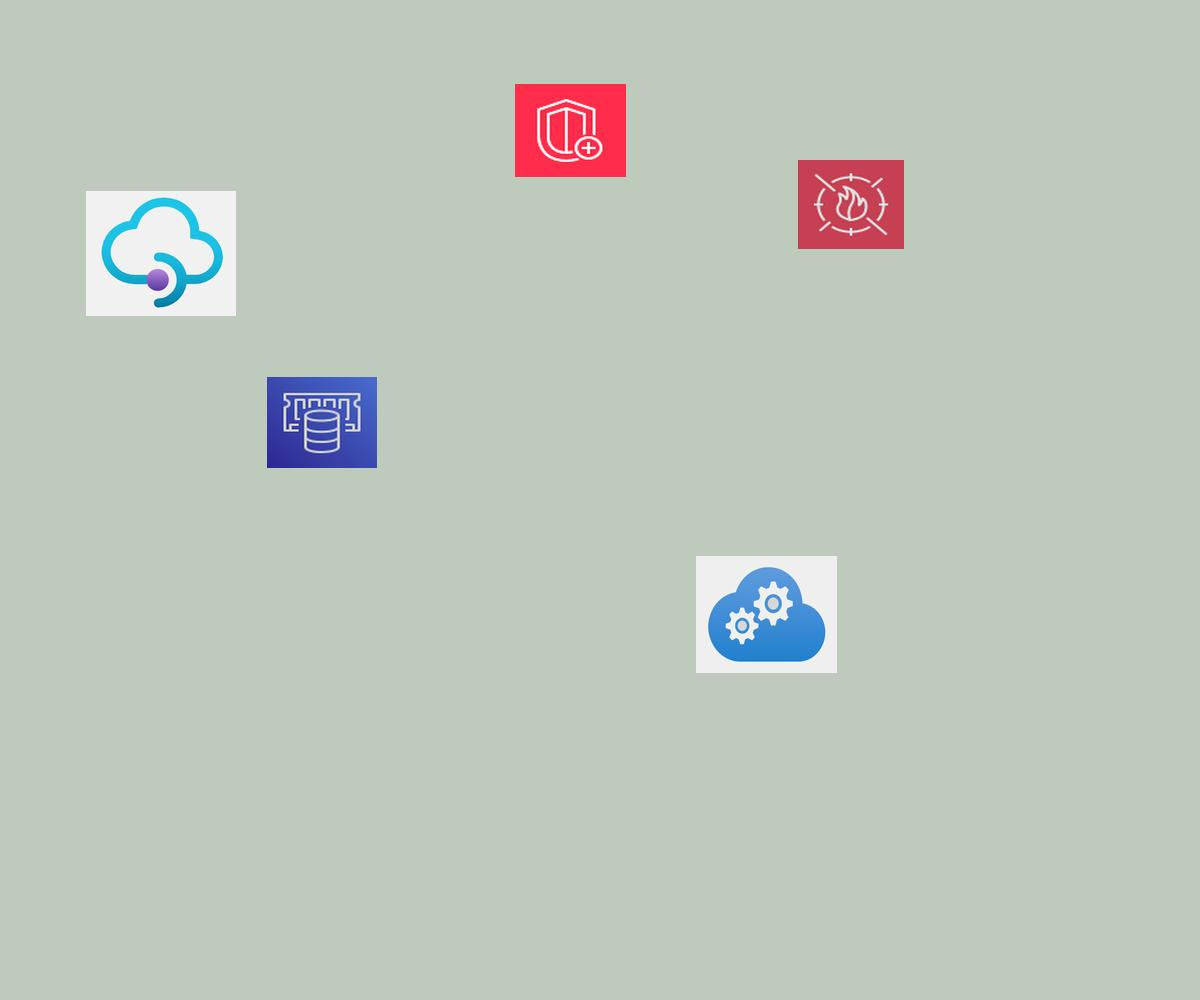AWS-ElastiCache: (267, 377, 377, 468)
AWS-Shield: (515, 84, 626, 177)
AWS-WAF: (798, 160, 904, 249)
Azure_api_gateway: (86, 191, 236, 316)
Azure_cloud_services: (696, 556, 837, 673)
